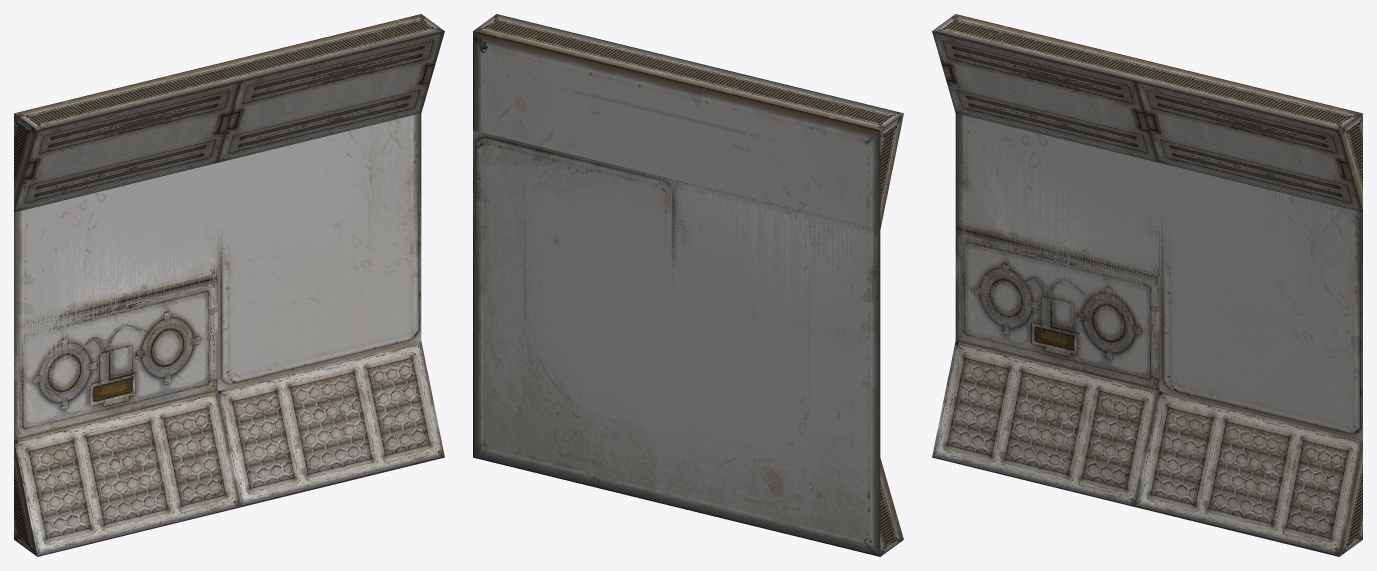
File: scifi_wall9_4.FBX
3 views of the same model, side by side, from view 1: azimuth 30°, elevation 25°; view 2: azimuth 150°, elevation 25°; view 3: azimuth 330°, elevation 25° (orthographic).
Visible parts, largest first — view 1: Plane088; view 2: Plane088; view 3: Plane088.
Boxes of the visible parts, x1,y1,x2,y2 form: Plane088: (14, 14, 444, 556); Plane088: (473, 14, 903, 556); Plane088: (932, 14, 1362, 556).
Size of the model in its own units: 254 by 254 by 25.4.
